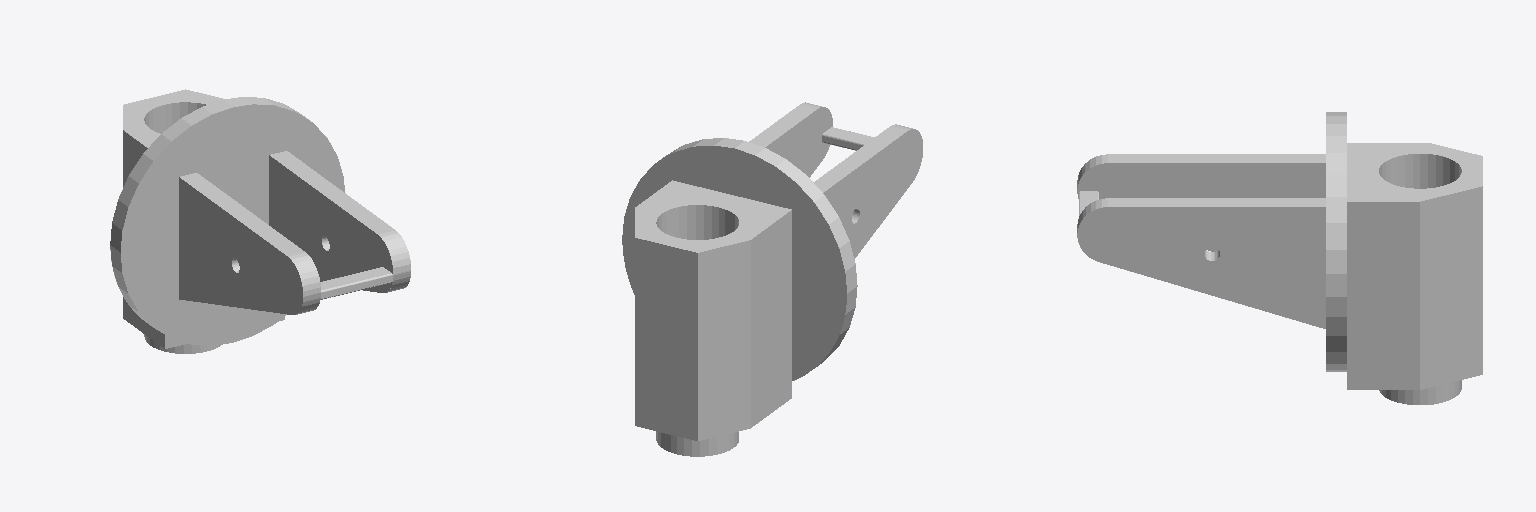
Rendered from slider.obj.
3 views of the same model, side by side, from view 1: azimuth 30°, elevation 25°; view 2: azimuth 150°, elevation 25°; view 3: azimuth 270°, elevation 25° (orthographic).
Parts seen in each view (by area): view 1: NONE_DC_Shell; view 2: NONE_DC_Shell; view 3: NONE_DC_Shell.
Boxes of the visible parts, x1=… form: NONE_DC_Shell: x1=110, y1=89, x2=410, y2=353; NONE_DC_Shell: x1=622, y1=102, x2=922, y2=456; NONE_DC_Shell: x1=1077, y1=112, x2=1482, y2=404.
Bounding box in the file's own units: 25 × 28 × 39.